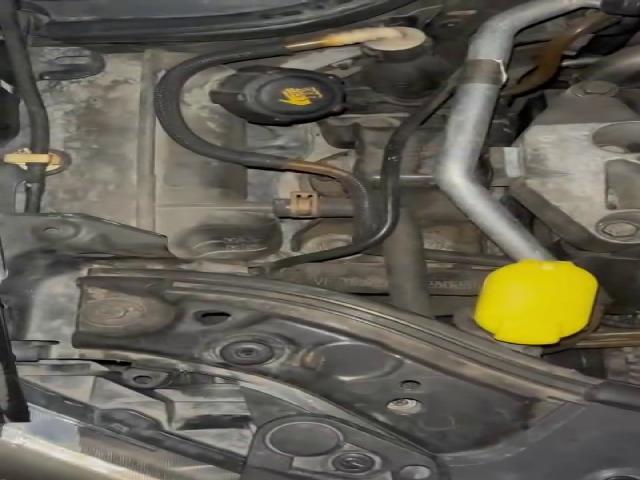antifreeze_tank: (38, 51, 280, 259), (181, 66, 344, 150)
